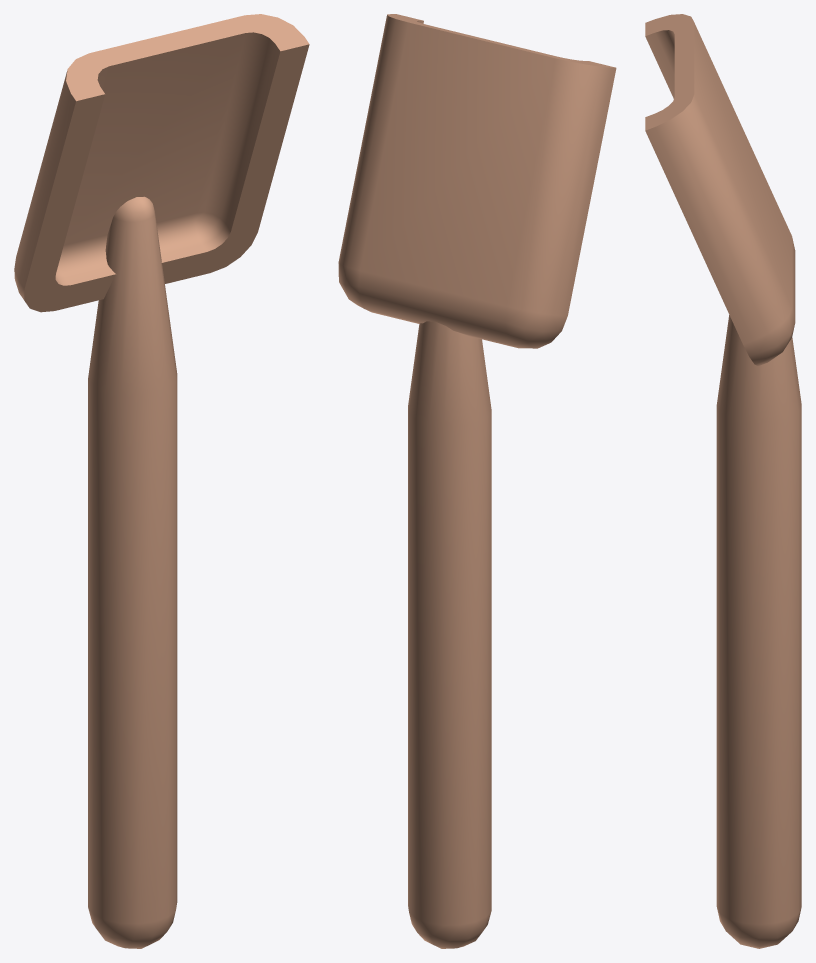
The model's file is shovel.dae.
The picture shows the model from 3 angles, left to right: view 1: azimuth 30°, elevation 25°; view 2: azimuth 150°, elevation 25°; view 3: azimuth 270°, elevation 25°; orthographic projection. The views are drawn at different scales.
Visible parts, largest first — view 1: Object; view 2: Object; view 3: Object.
Part boxes in pixels (x1,y1,x2,y2): Object: [14, 14, 309, 948]; Object: [338, 14, 616, 948]; Object: [645, 14, 801, 948].
Bounding box in the file's own units: 0.0096 × 0.00589 × 0.0368.
